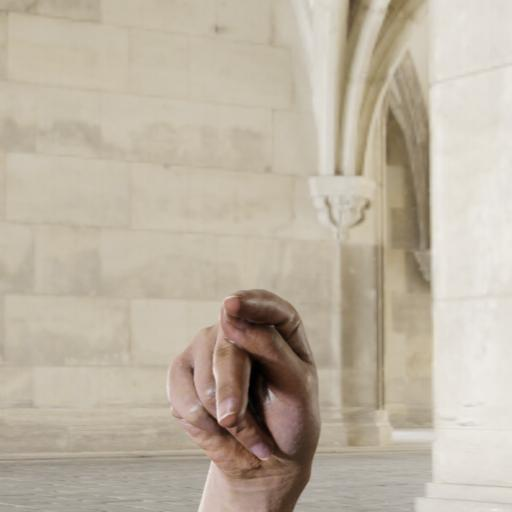P: (148, 279, 337, 512)
